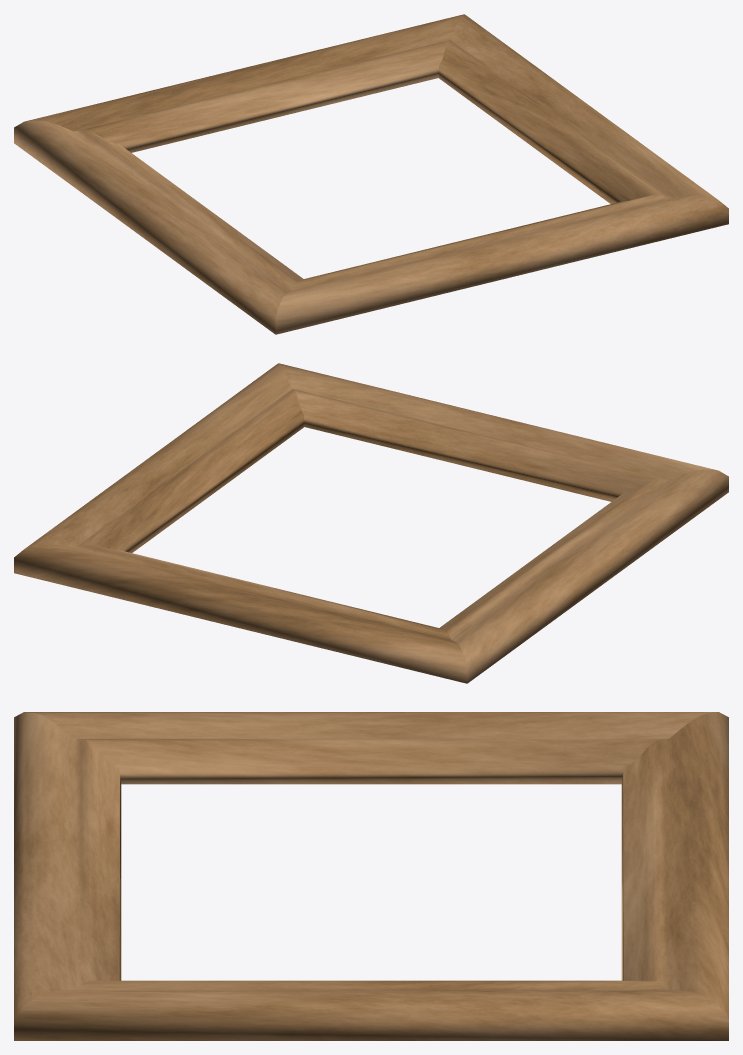
The model's file is pic_frame3.fbx.
The picture shows the model from 3 angles, top to bottom: view 1: azimuth 30°, elevation 25°; view 2: azimuth 150°, elevation 25°; view 3: azimuth 270°, elevation 25°; orthographic projection. The views are drawn at different scales.
Parts seen in each view (by area): view 1: ベジエ円; view 2: ベジエ円; view 3: ベジエ円.
Part boxes in pixels (<box>): ベジエ円: <box>14,14,728,334</box>; ベジエ円: <box>14,363,728,683</box>; ベジエ円: <box>14,712,728,1040</box>.
Size of the model in its own units: 173 by 9.39 by 173.
